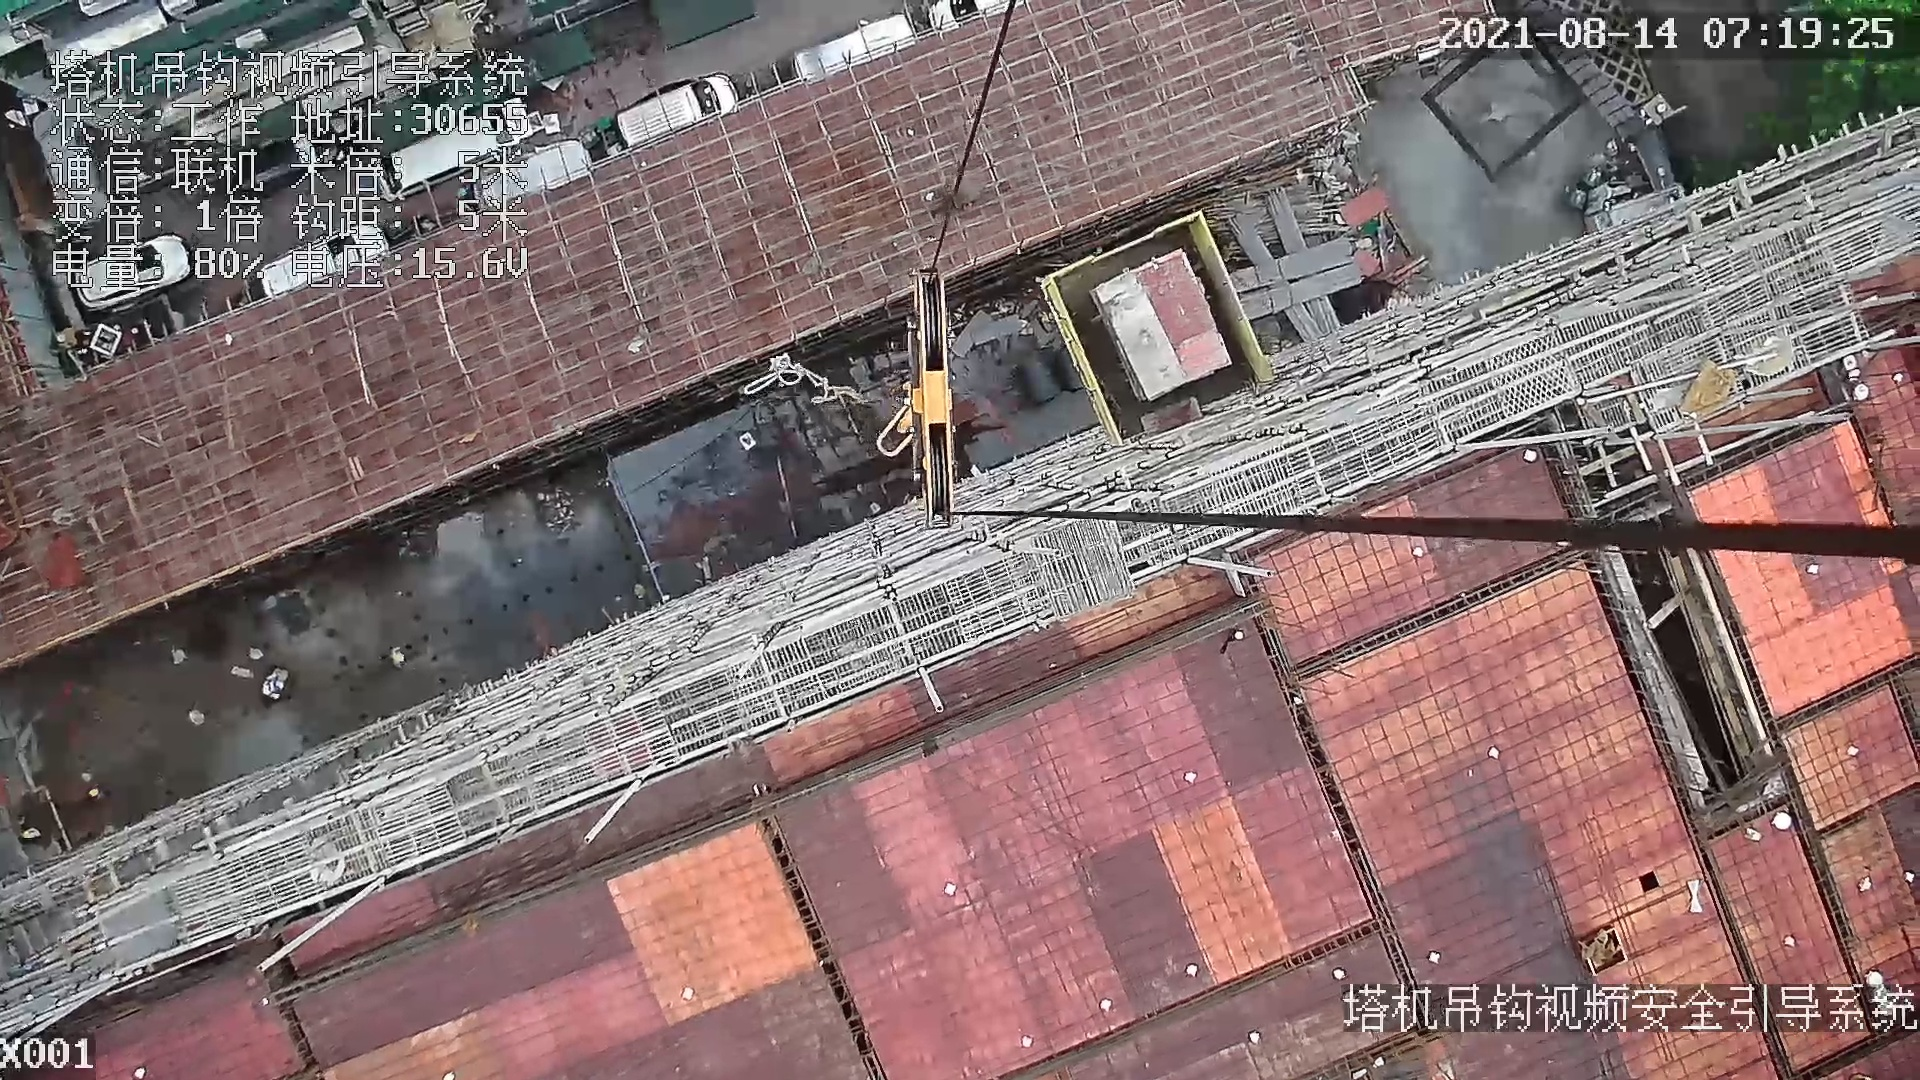hook: (870, 258, 968, 531)
